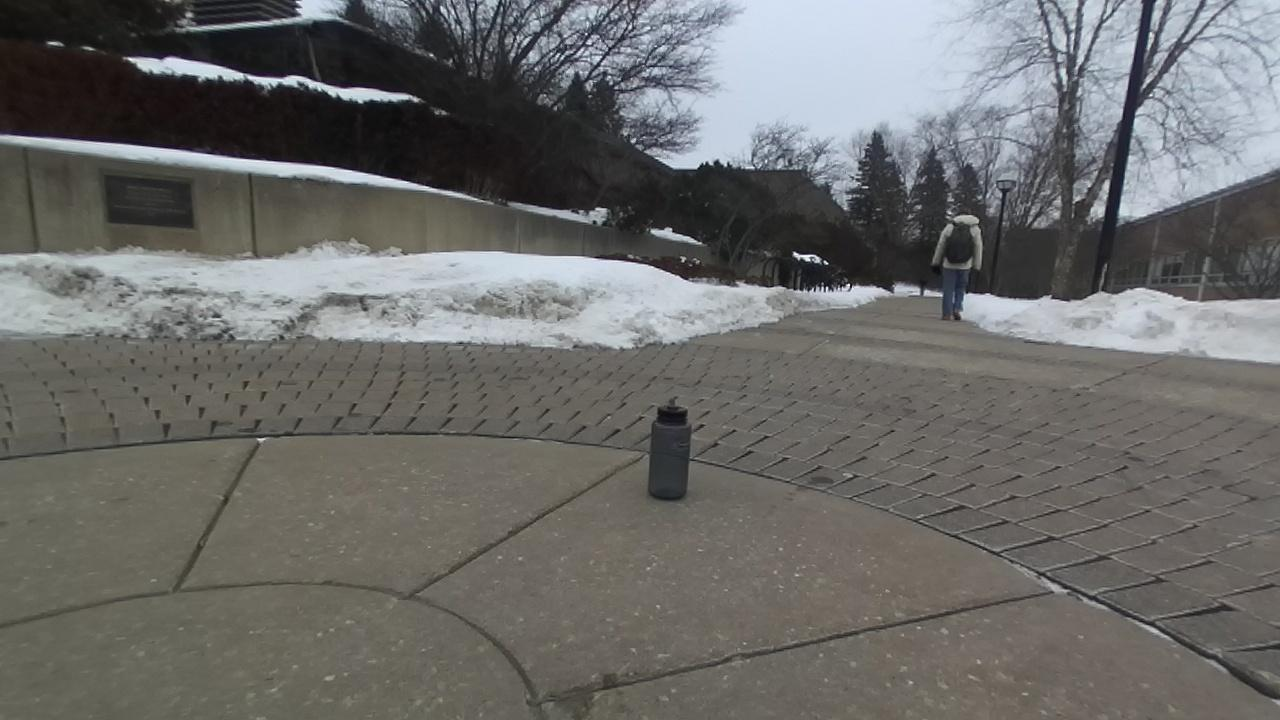bottle: (649, 397, 691, 500)
